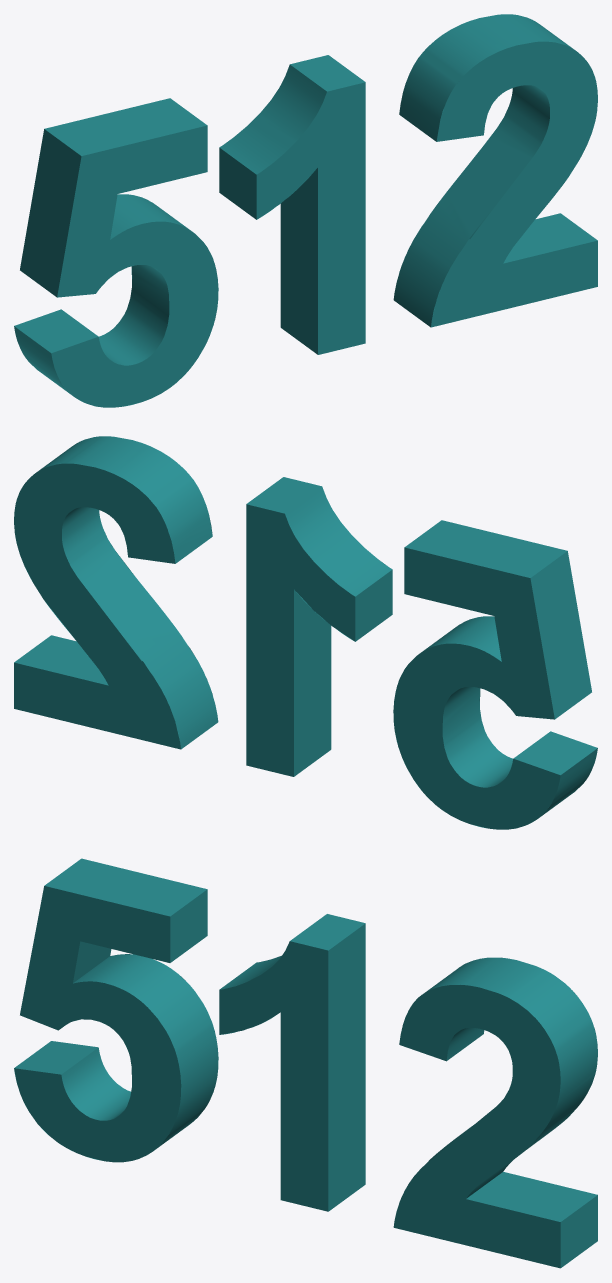
The model's file is item_512.glb.
The picture shows the model from 3 angles, top to bottom: view 1: azimuth 30°, elevation 25°; view 2: azimuth 150°, elevation 25°; view 3: azimuth 330°, elevation 25°; orthographic projection.
Visible parts, largest first — view 1: Text; view 2: Text; view 3: Text.
Part boxes in pixels (<box>): Text: <box>14,14,597,407</box>; Text: <box>14,436,597,829</box>; Text: <box>14,858,597,1268</box>.
Bounding box in the file's own units: 1.1 × 0.5104 × 0.13.
